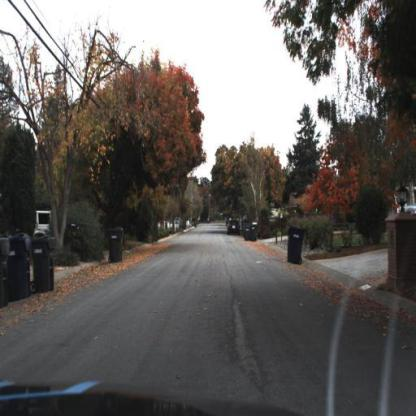car: (226, 216, 243, 241), (227, 220, 241, 237)
